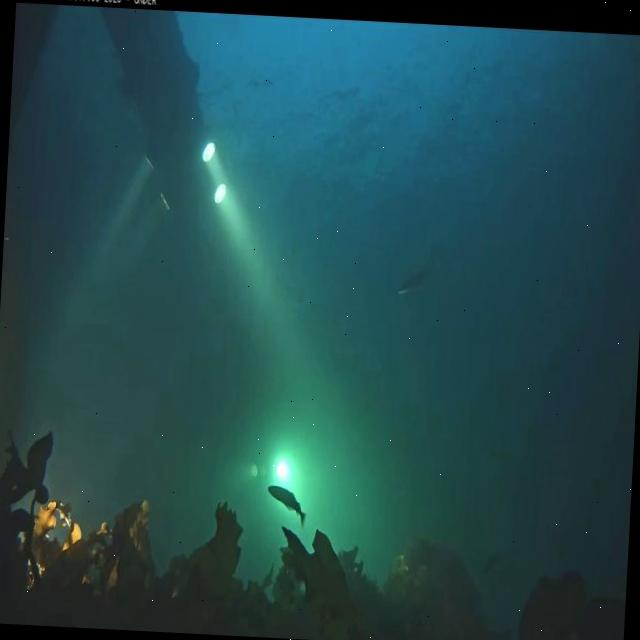fish: (266, 484, 308, 528), (401, 270, 433, 302)
